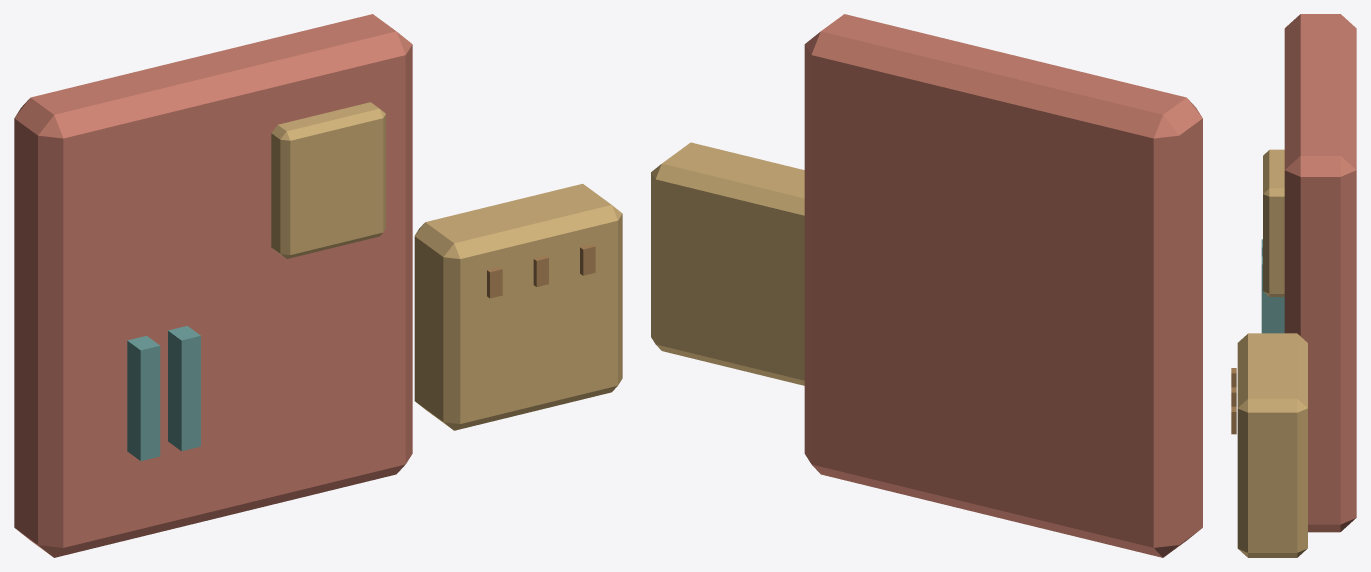
Rendered from plant_decorator.glb.
3 renders of one model, left to right at view 1: azimuth 30°, elevation 25°; view 2: azimuth 150°, elevation 25°; view 3: azimuth 270°, elevation 25°, orthographic. The views are drawn at different scales.
Parts seen in each view (by area): view 1: plant_decorator; view 2: plant_decorator; view 3: plant_decorator.
Part boxes in pixels (left/top/right/bottom): plant_decorator: left=14, top=14, right=622, bottom=557; plant_decorator: left=651, top=14, right=1202, bottom=557; plant_decorator: left=1231, top=14, right=1356, bottom=557.
Bounding box in the file's own units: 0.34 × 0.26 × 0.0784.
